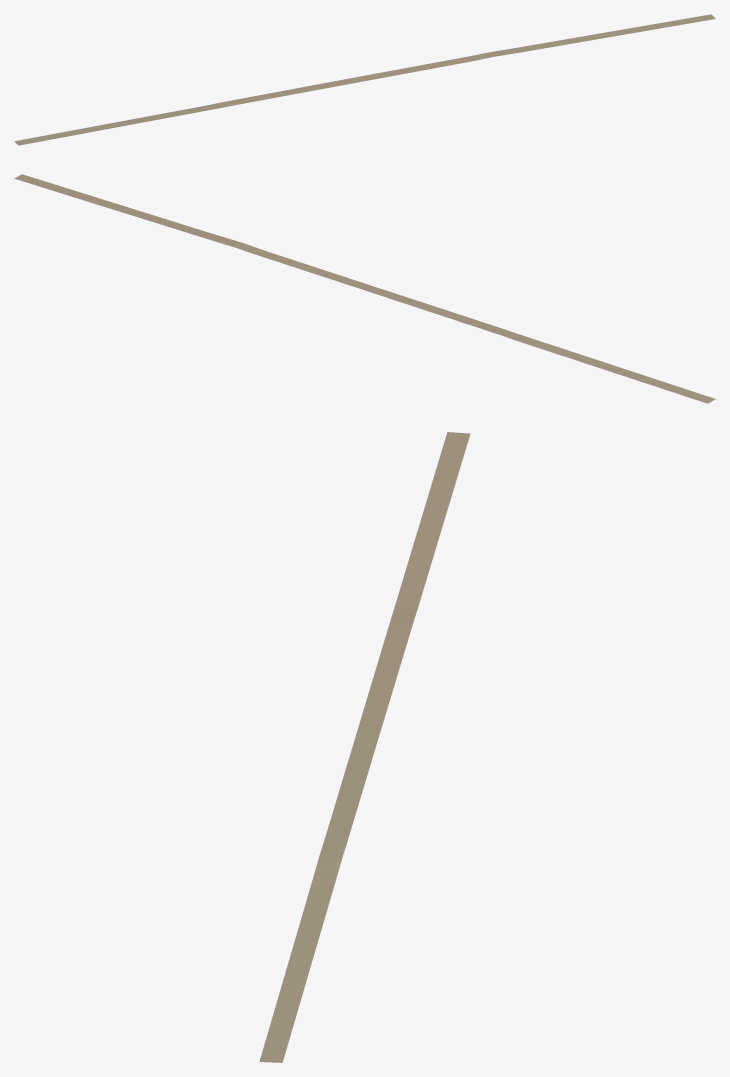
File: farm_7_12_track.glb
The picture shows the model from 3 angles, top to bottom: view 1: azimuth 30°, elevation 25°; view 2: azimuth 150°, elevation 25°; view 3: azimuth 270°, elevation 25°; orthographic projection. The views are drawn at different scales.
Visible parts, largest first — view 1: geometry_0; view 2: geometry_0; view 3: geometry_0.
Part boxes in pixels (x1,y1,x2,y2): geometry_0: [14, 14, 715, 145]; geometry_0: [14, 174, 715, 403]; geometry_0: [259, 432, 470, 1062].
Size of the model in its own units: 211 by 1.33 by 29.59.
